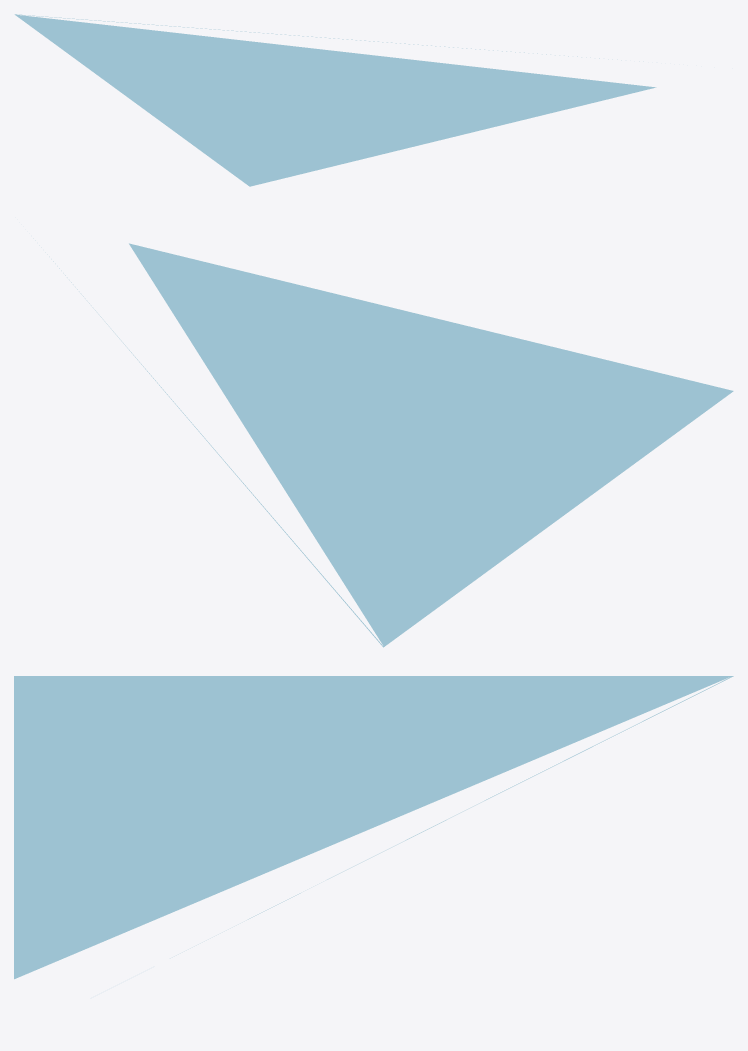
The model's file is terrain-context-D-x3-z2.glb.
3 views of the same model, one above another, from view 1: azimuth 30°, elevation 25°; view 2: azimuth 150°, elevation 25°; view 3: azimuth 270°, elevation 25° (orthographic). The views are drawn at different scales.
Visible parts, largest first — view 1: D-x3-z2; view 2: D-x3-z2; view 3: D-x3-z2.
Boxes of the visible parts, <box> form: D-x3-z2: <box>14,14,656,186</box>; D-x3-z2: <box>33,238,733,647</box>; D-x3-z2: <box>14,676,733,979</box>.
Size of the model in its own units: 58.87 by 0 by 49.64.
